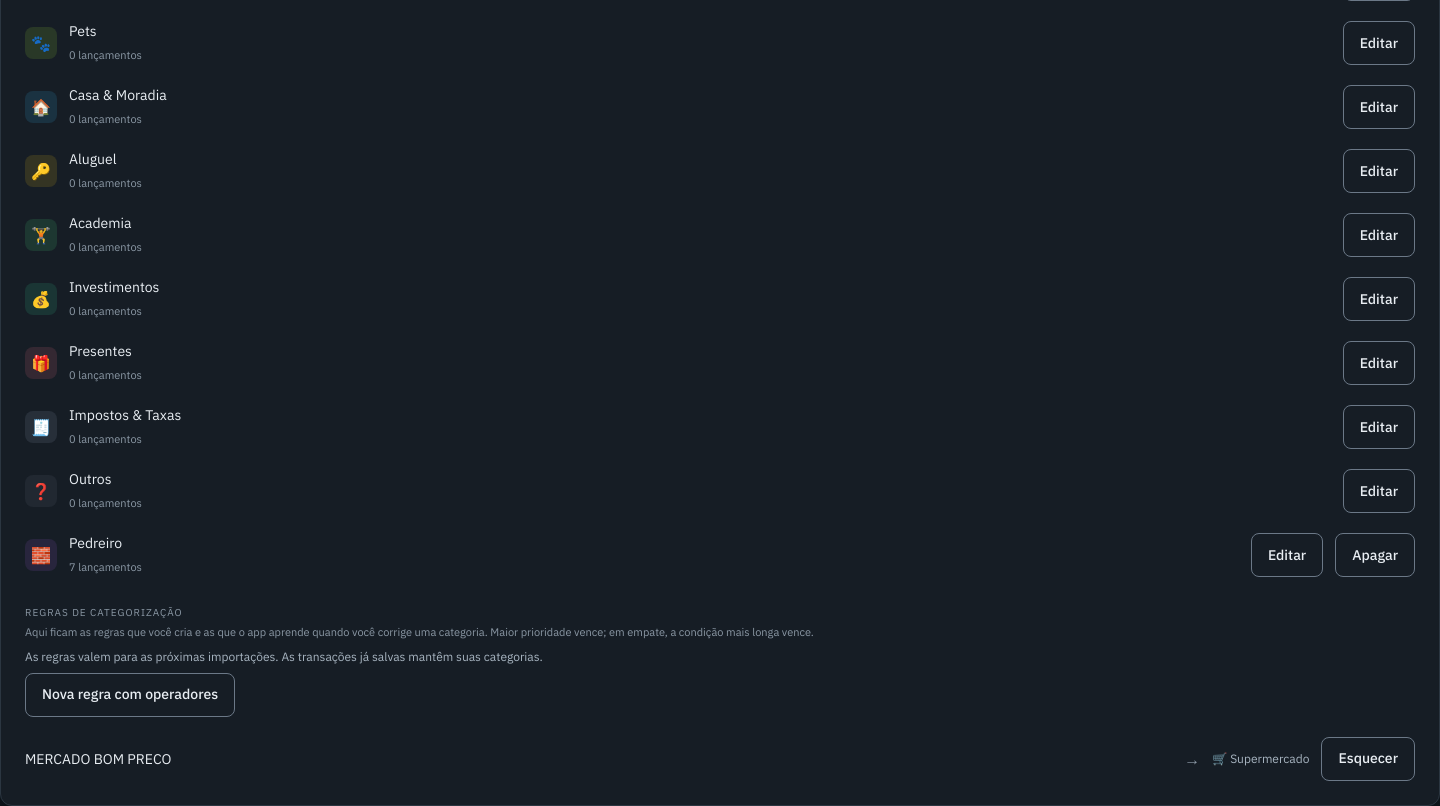
Test: Categorias › preserva a condição quando salvar falha e permite tentar novamente
The width and height of the screenshot is (1440, 806).
(page scrolled)
Click the button "Nova regra com operadores" at (130, 694), box [25,672,235,716]
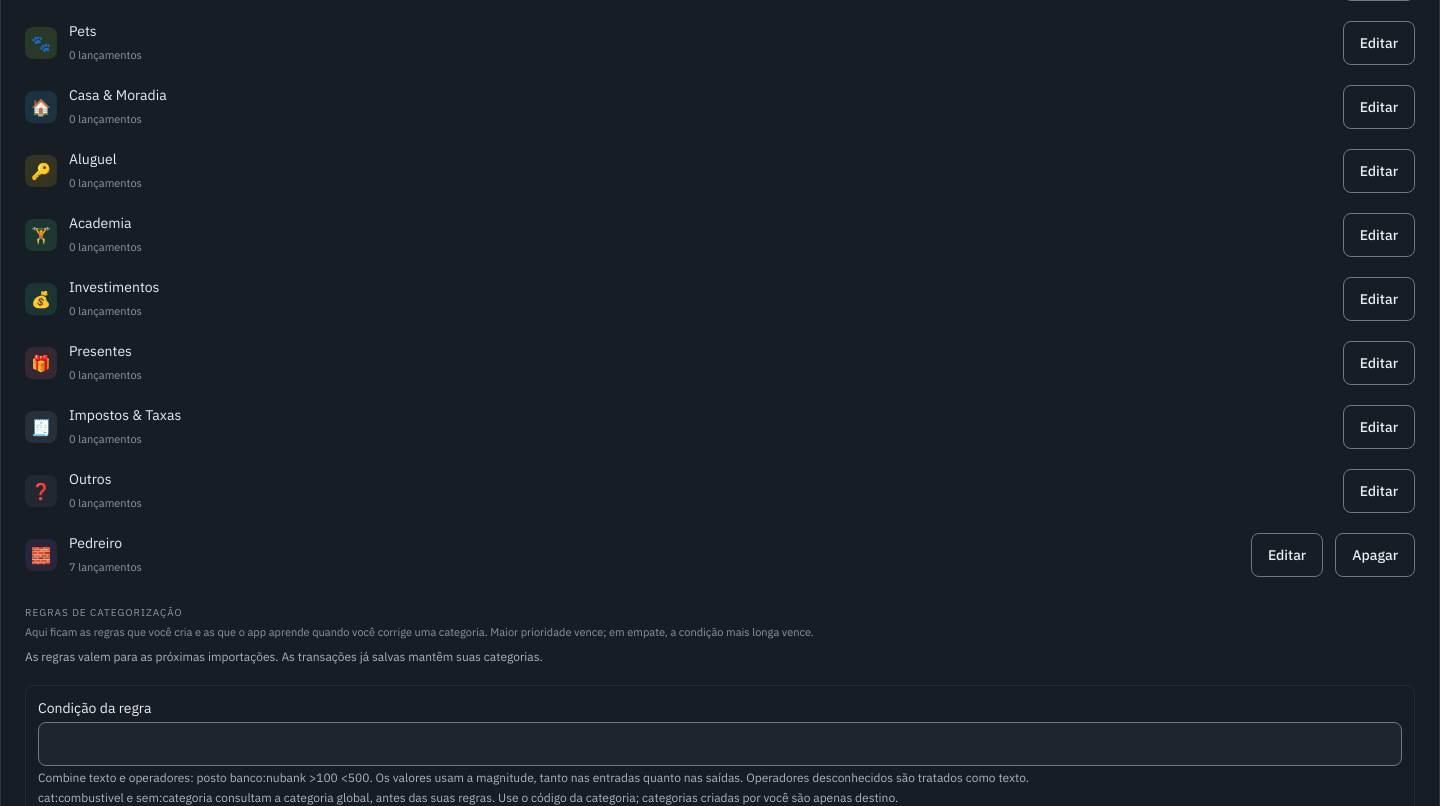
Type ">100" into the field labelled "Condição da regra" at (720, 744), box [38,722,1402,766]
(page scrolled)
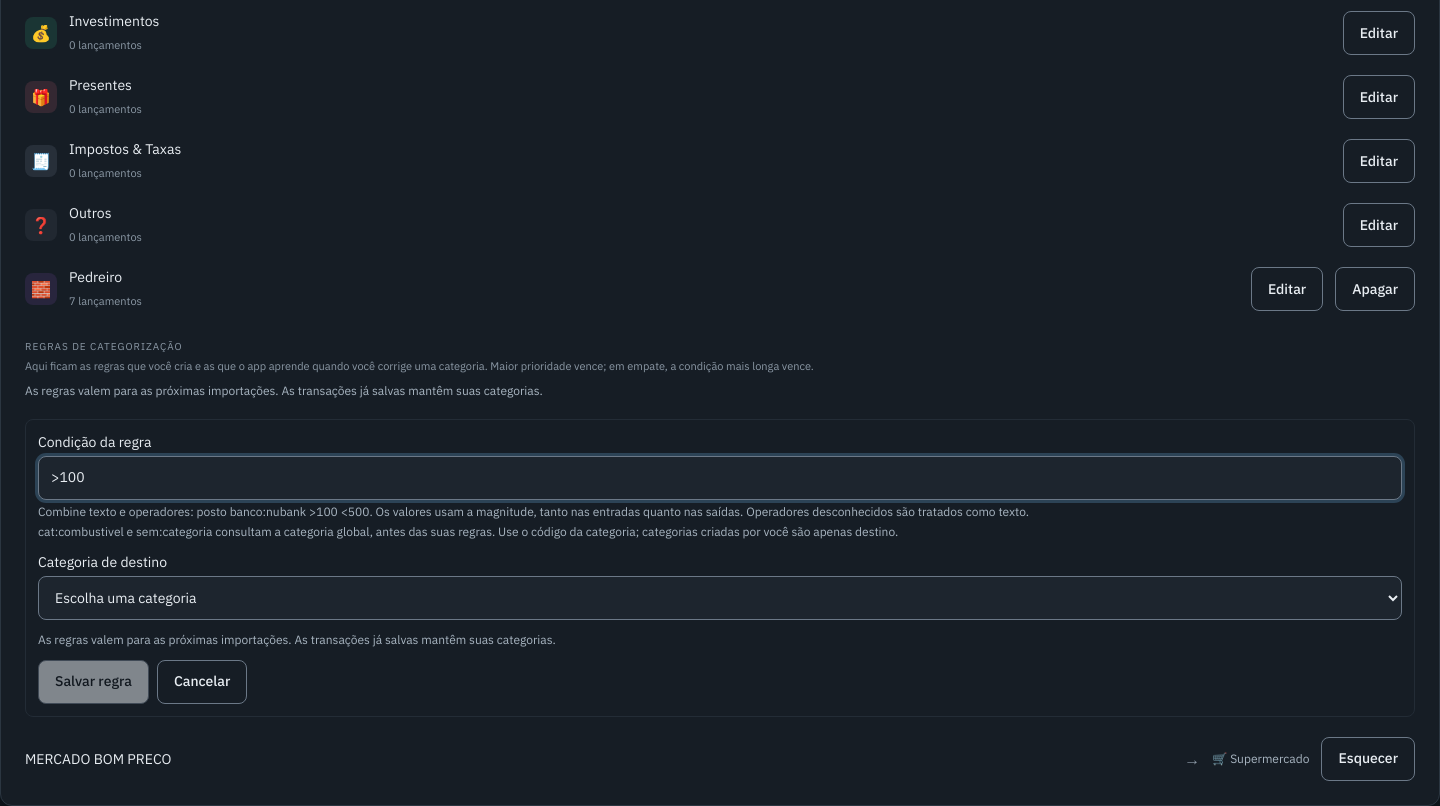
Select "✈️ Viagem" in the dropdown labelled "Categoria de destino" at (720, 598), box [38,576,1402,620]
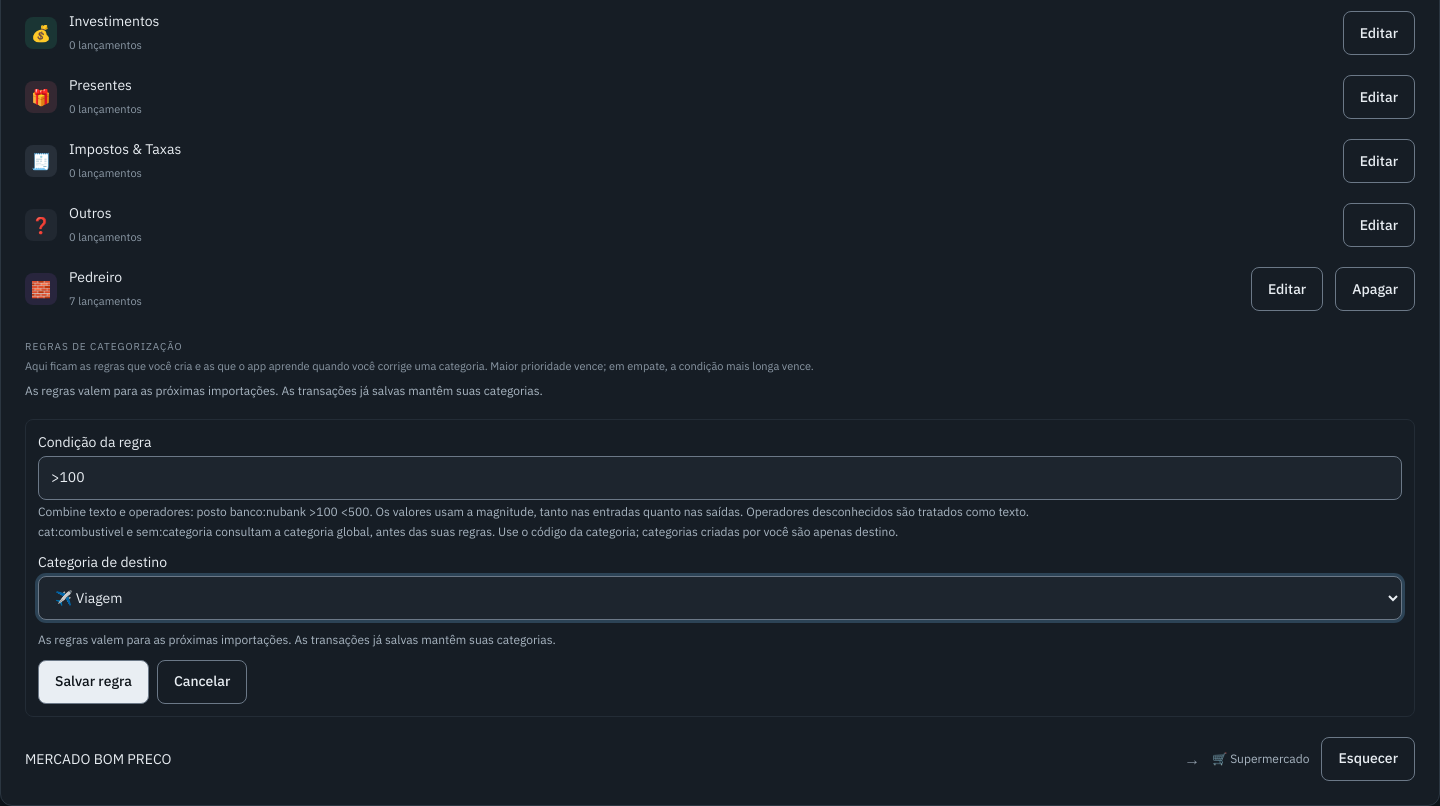
Click the button "Salvar regra" at (93, 682), box [38,660,149,704]
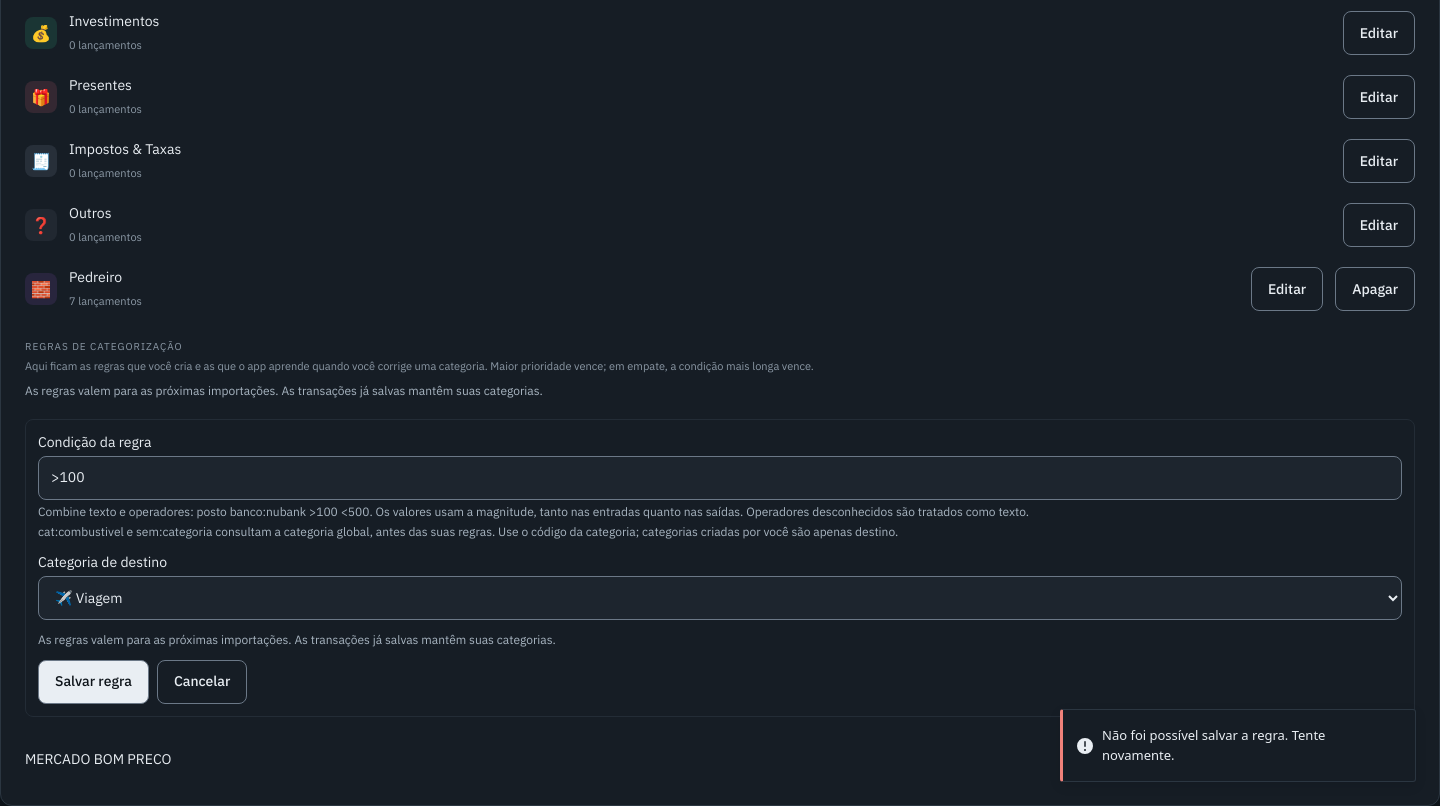
Expected: the button "Salvar regra" is enabled, [38,660,149,704]
Expected: the text "Não foi possível salvar a regra. Tente novamente." is shown, [1102,726,1325,764]
